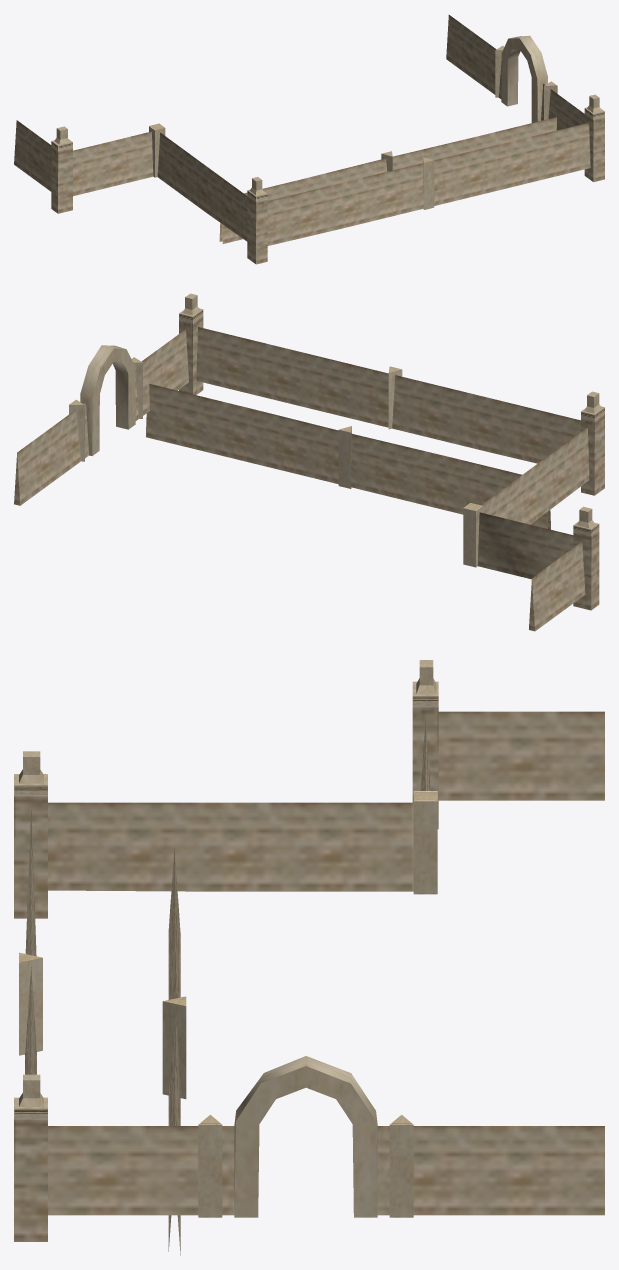
File: poi_nboo_corral_half_64x64_s03_l1.fbx
3 renders of one model, top to bottom at view 1: azimuth 30°, elevation 25°; view 2: azimuth 150°, elevation 25°; view 3: azimuth 270°, elevation 25°, orthographic. The views are drawn at different scales.
Visible parts, largest first — view 1: mesh_node; view 2: mesh_node; view 3: mesh_node.
Part boxes in pixels (x1,y1,x2,y2): mesh_node: [14, 15, 604, 264]; mesh_node: [14, 293, 604, 631]; mesh_node: [14, 660, 604, 1255].
Bounding box in the file's own units: 42.26 × 9 × 24.71.
1 material, 1 textured.
